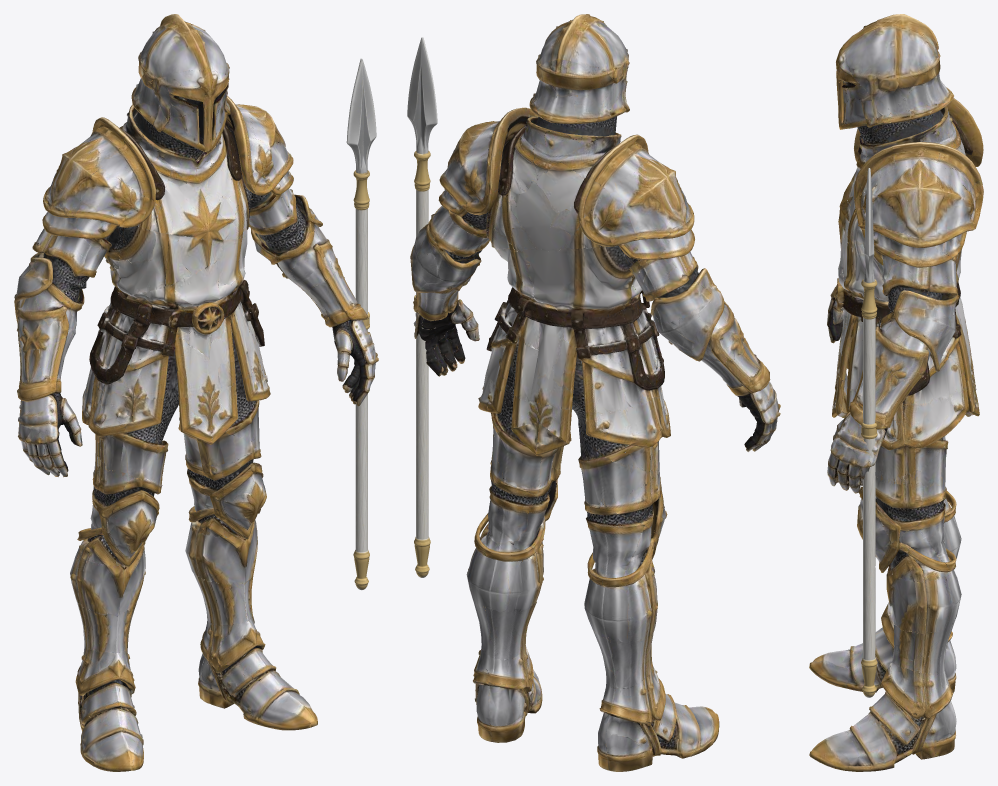
File: white_pawn_armed.glb
The picture shows the model from 3 angles, left to right: view 1: azimuth 30°, elevation 25°; view 2: azimuth 150°, elevation 25°; view 3: azimuth 270°, elevation 25°; orthographic projection. The views are drawn at different scales.
Visible parts, largest first — view 1: White_Pawn, Pawn_Spear; view 2: White_Pawn, Pawn_Spear; view 3: White_Pawn, Pawn_Spear.
Part boxes in pixels (x1,y1,x2,y2): White_Pawn: [14, 14, 378, 771]; Pawn_Spear: [346, 58, 376, 590]; White_Pawn: [410, 14, 780, 771]; Pawn_Spear: [407, 37, 437, 577]; White_Pawn: [809, 14, 983, 771]; Pawn_Spear: [861, 168, 877, 697].
Size of the model in its own units: 1.01 by 1.9 by 0.4273.
2 materials, 2 textured.
